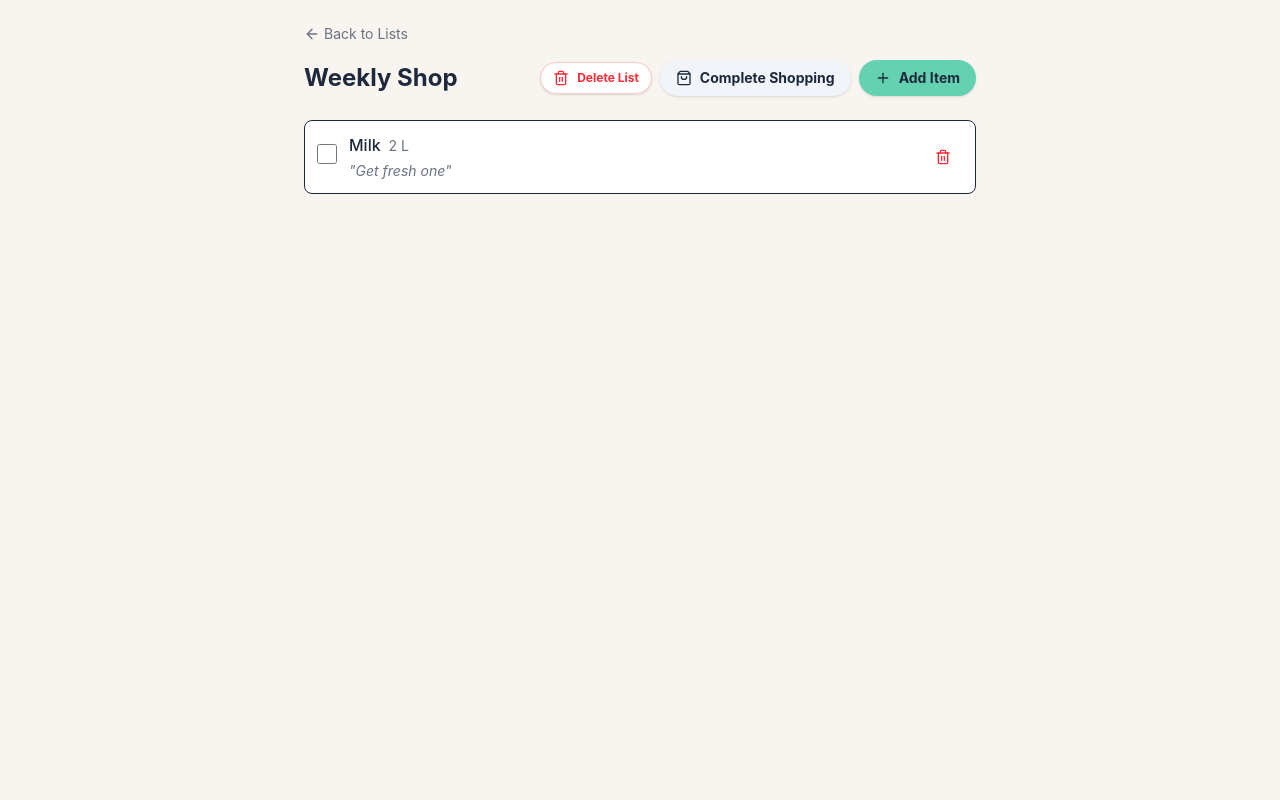
Test case: Shopping Lists › opens add item dialog and shows preferred outlet selection
Click the button "Add Item" at (917, 78), box [859,60,976,96]
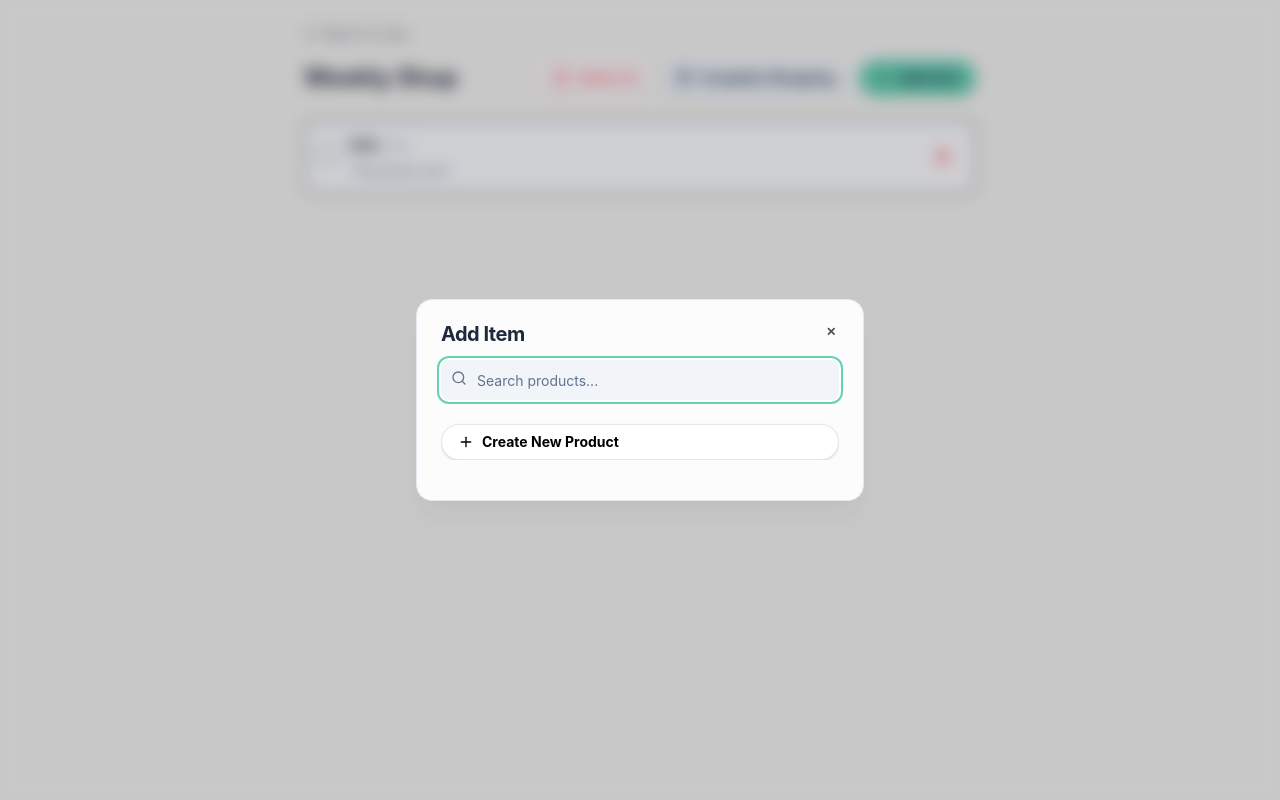
# Simulate searching
Type "Milk" into the field with placeholder "Search products..." at (640, 380), box [441,360,839,400]
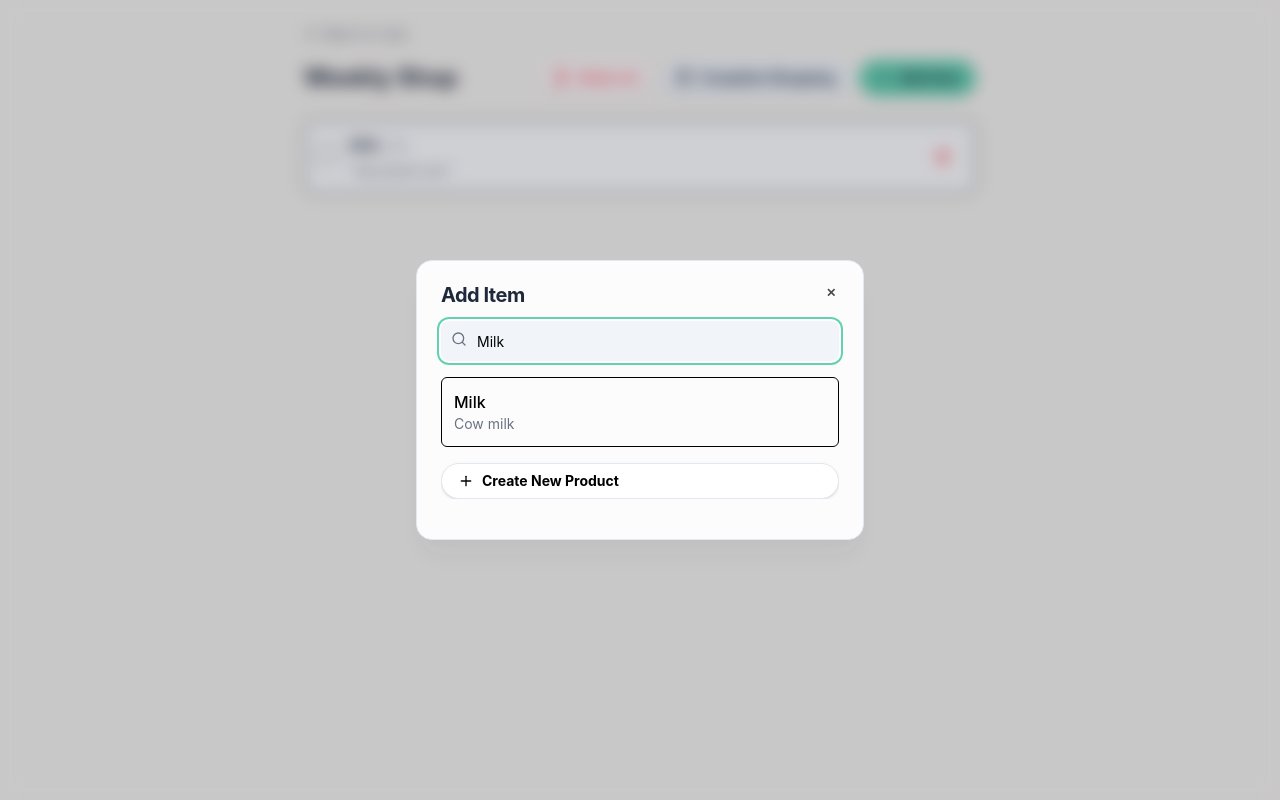
Click the text "Milk" at (470, 402), box [454,392,486,412]
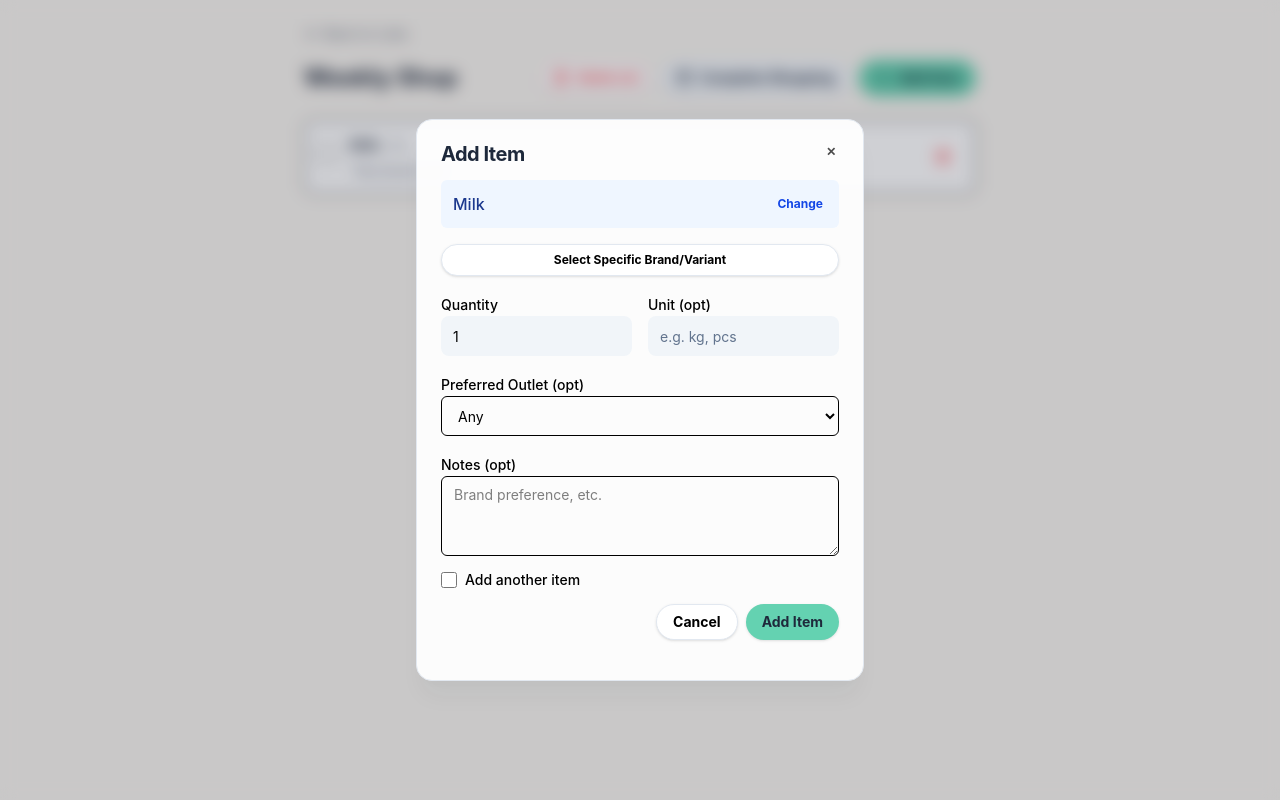
expect the dropdown labelled "Preferred Outlet (opt)" is shown: met, box [441,396,839,436]
